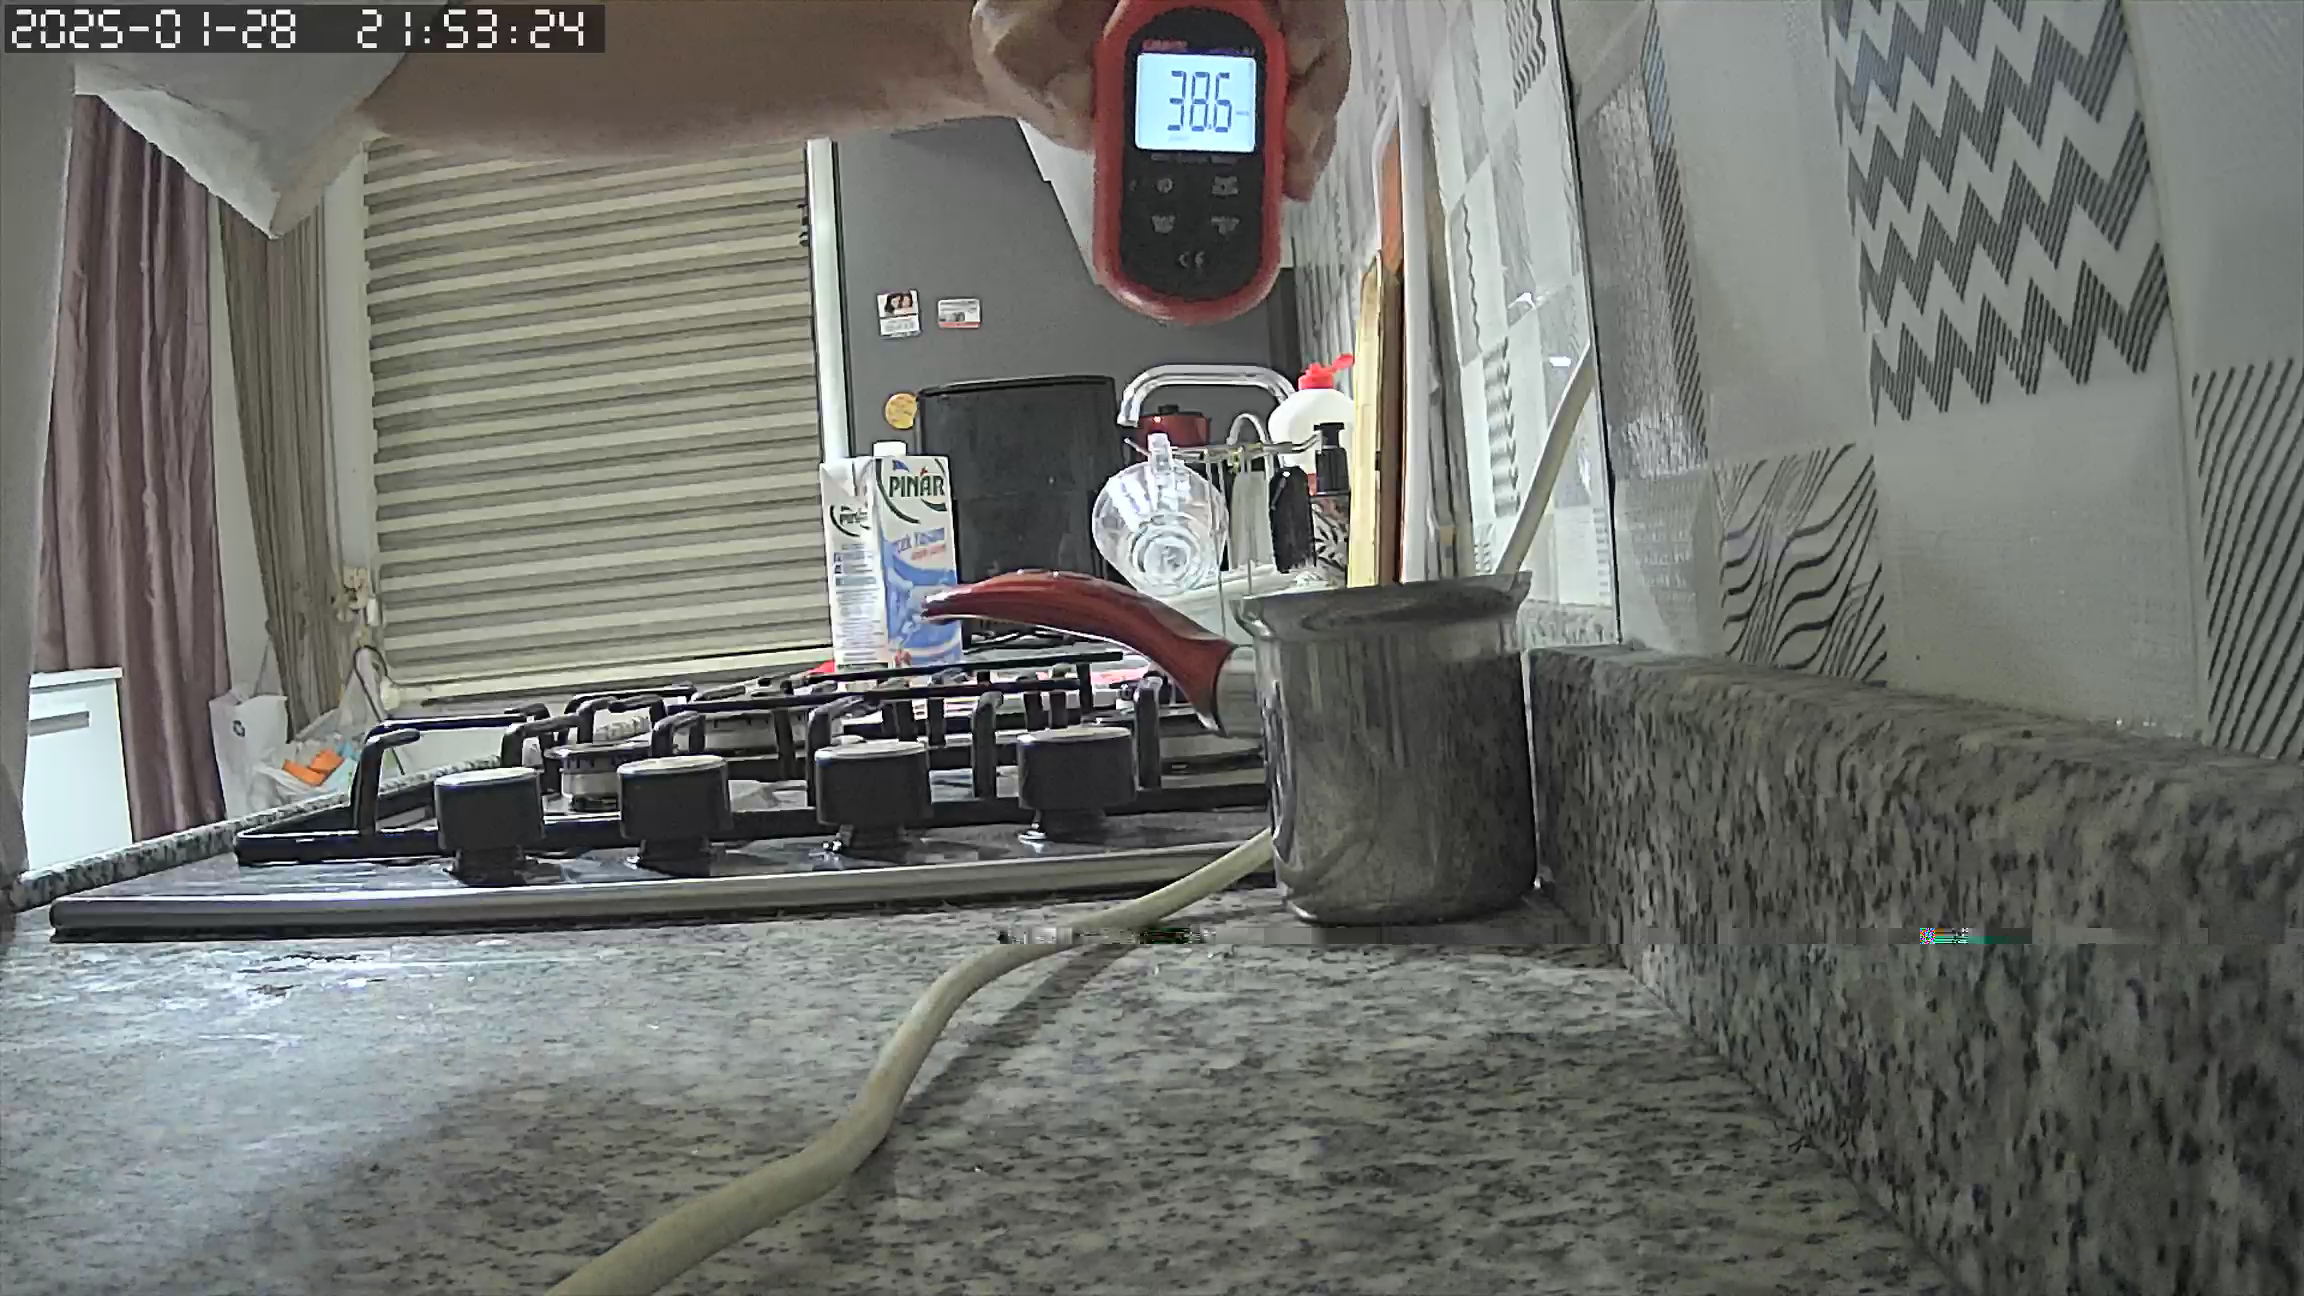screen: (1139, 55, 1256, 146)
